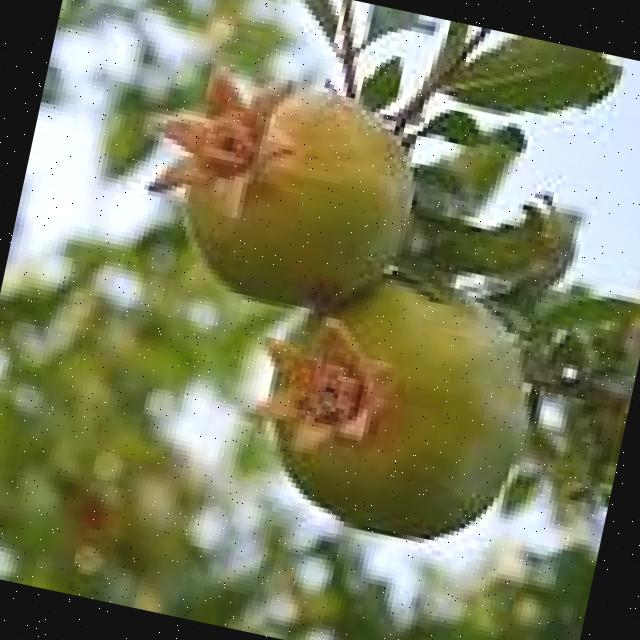Unripe: (225, 244, 556, 562), (126, 54, 438, 330)
